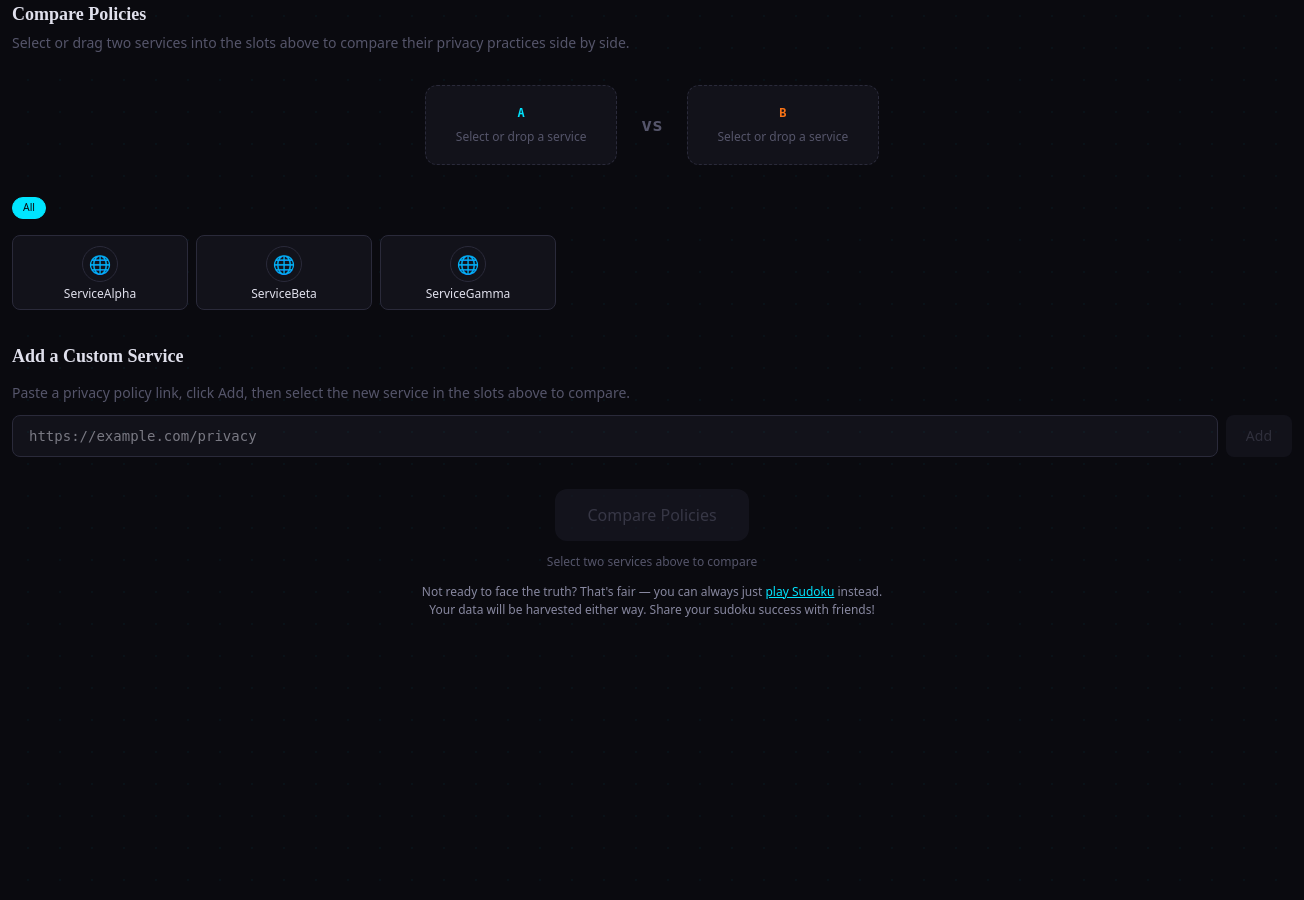
CompareTab › Compare Policies button is enabled when 2 services are selected
Click the text "ServiceAlpha" at (100, 293), box x1=64 y1=286 x2=136 y2=301
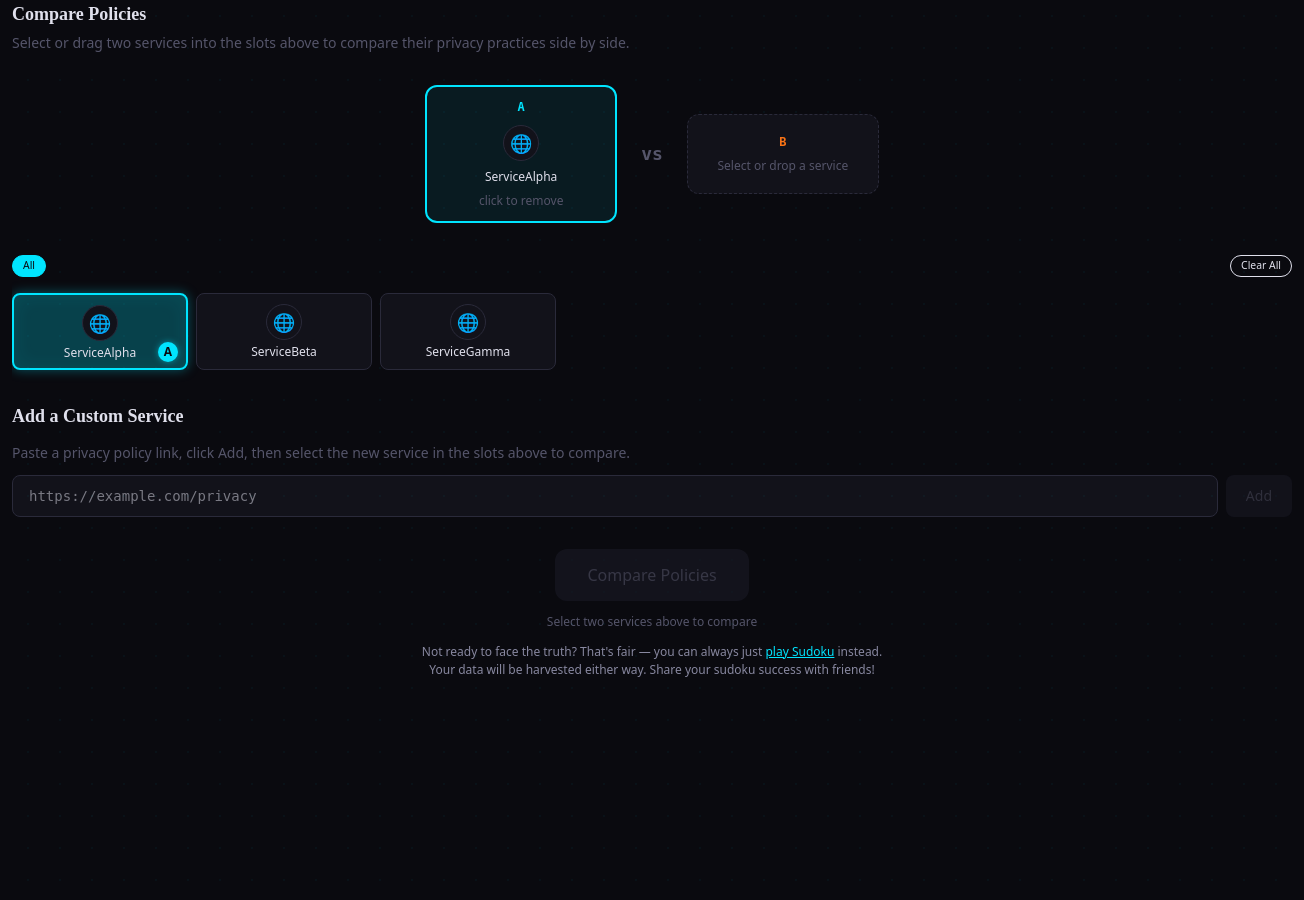
Click the text "ServiceBeta" at (284, 351), box x1=251 y1=344 x2=317 y2=359
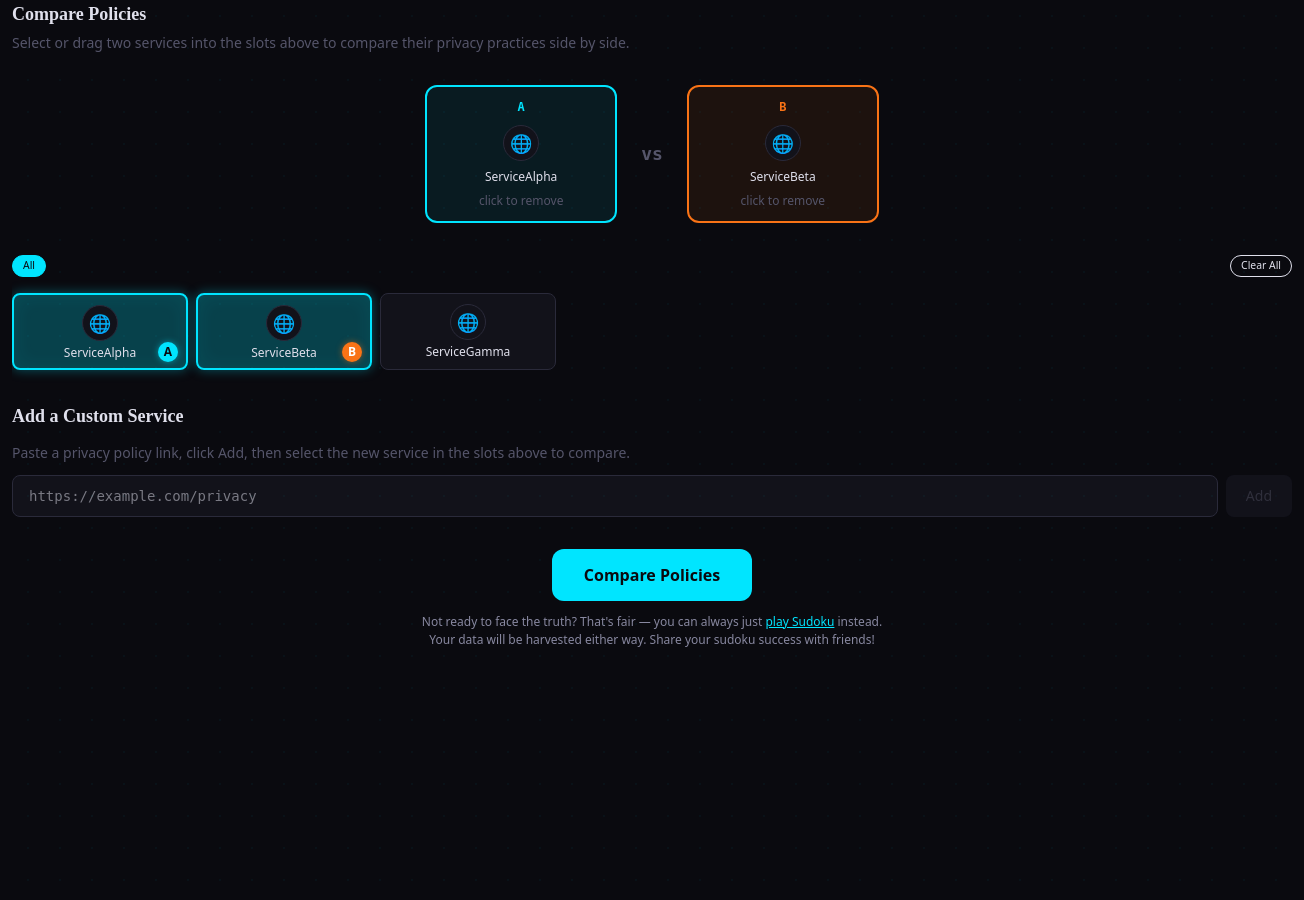
Check: the button "Compare Policies" is enabled, box x1=552 y1=549 x2=752 y2=601
